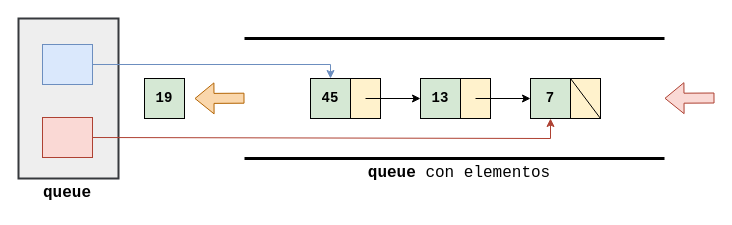
This 732x225 diagram has some shape labels left out. Each missing label, with the centre of its shape:
"head" belongs at point 67,64.
"tail" belongs at point 67,137.
